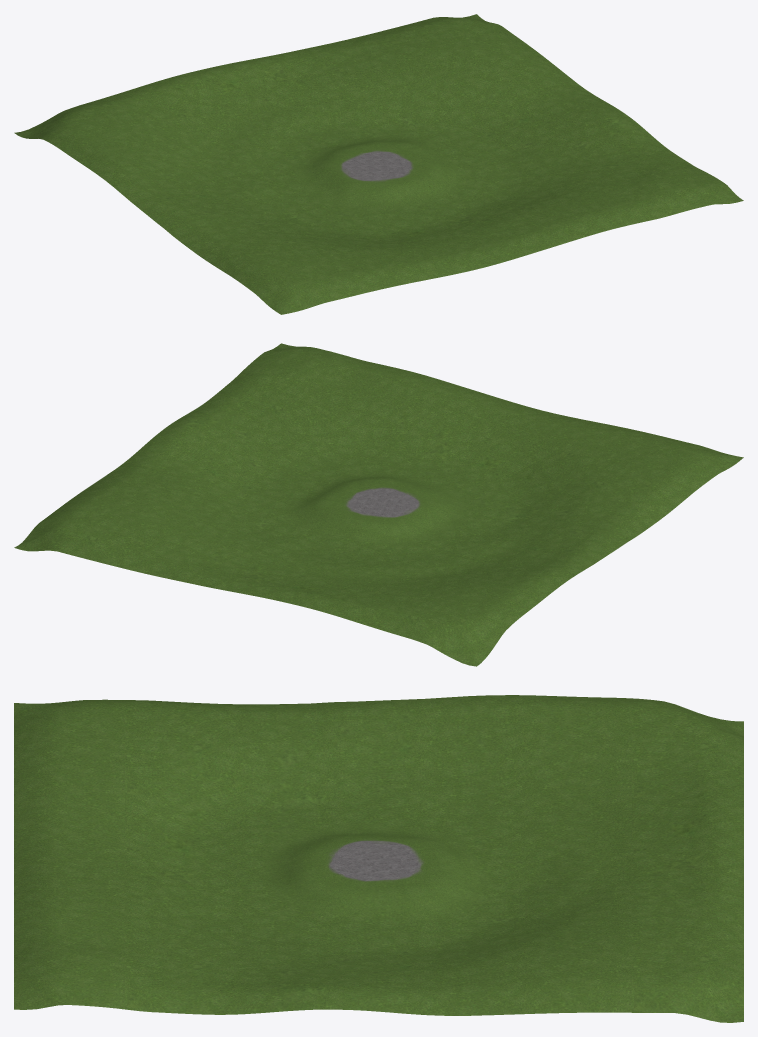
The model's file is terrain.glb.
3 views of the same model, one above another, from view 1: azimuth 30°, elevation 25°; view 2: azimuth 150°, elevation 25°; view 3: azimuth 270°, elevation 25° (orthographic). The views are drawn at different scales.
Parts seen in each view (by area): view 1: terrain; view 2: terrain; view 3: terrain.
Boxes of the visible parts, box(x1,y1,x2,y2) form: terrain: box(14, 14, 743, 314); terrain: box(14, 343, 743, 666); terrain: box(14, 695, 743, 1022).
Size of the model in its own units: 2 by 0.1088 by 2.
Materials: 1 (1 with a texture image).
